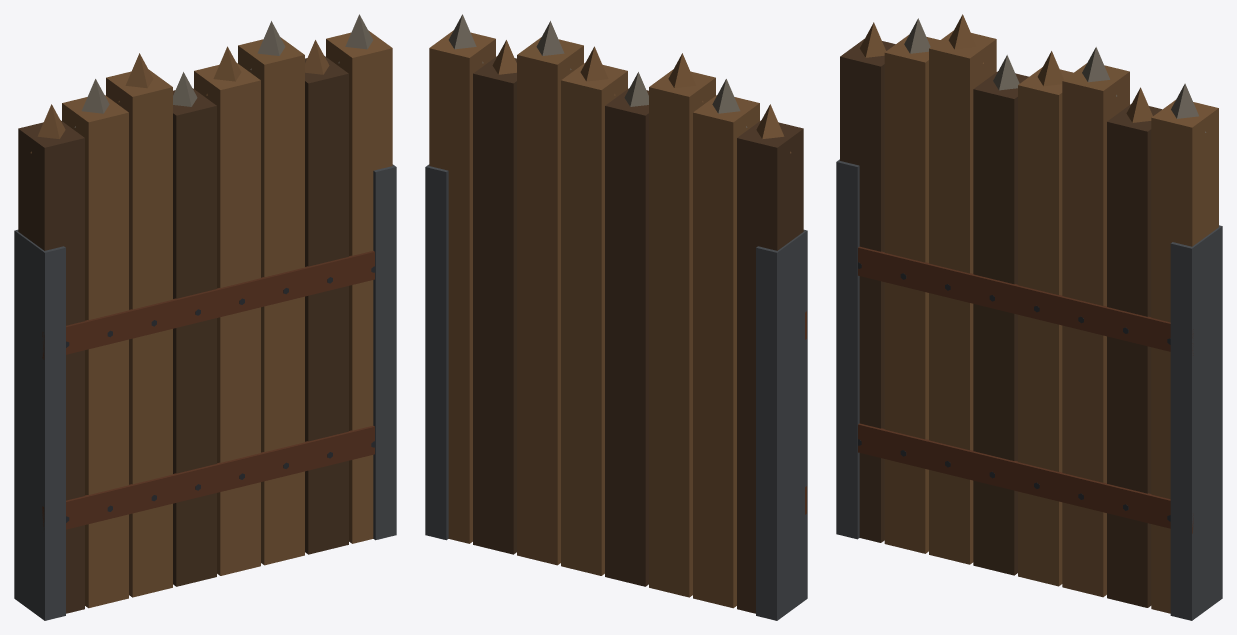
Rendered from piece_palisade.fbx.
3 views of the same model, side by side, from view 1: azimuth 30°, elevation 25°; view 2: azimuth 150°, elevation 25°; view 3: azimuth 330°, elevation 25° (orthographic).
Visible parts, largest first — view 1: piece_palisade; view 2: piece_palisade; view 3: piece_palisade.
Boxes of the visible parts, box(x1,y1,x2,y2) form: piece_palisade: box(14, 14, 396, 620); piece_palisade: box(425, 14, 807, 620); piece_palisade: box(836, 14, 1222, 620).
Size of the model in its own units: 2 by 2.88 by 0.3.
